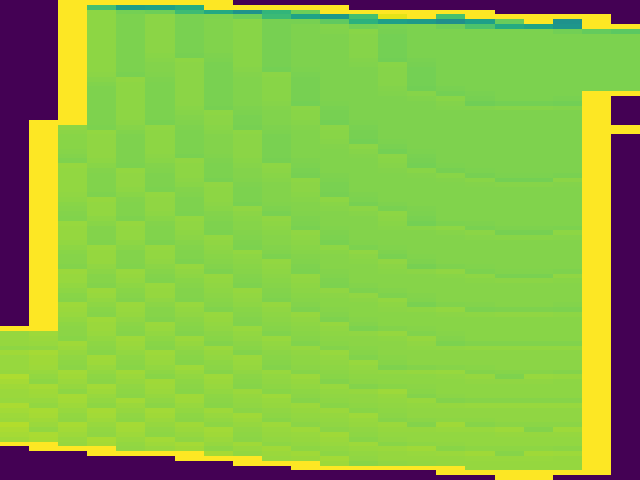cube: (4, 1, 640, 480)
